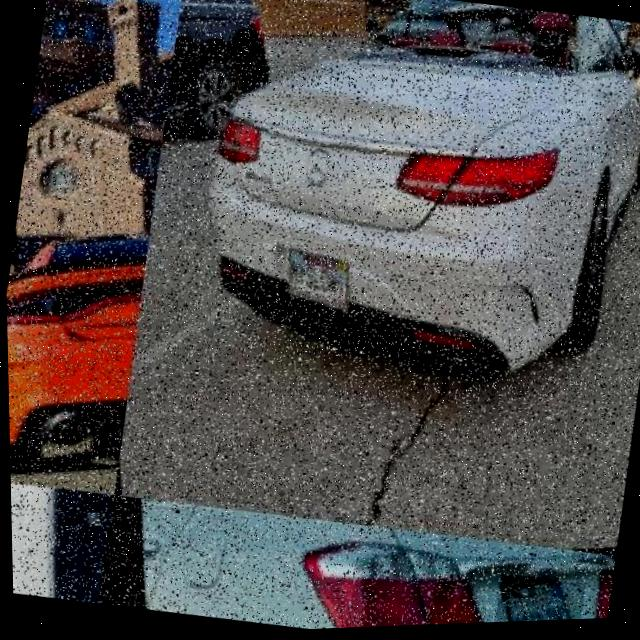LicensePlate: (277, 250, 344, 317), (497, 585, 566, 626)
